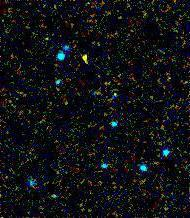star: (73, 43, 103, 73)
